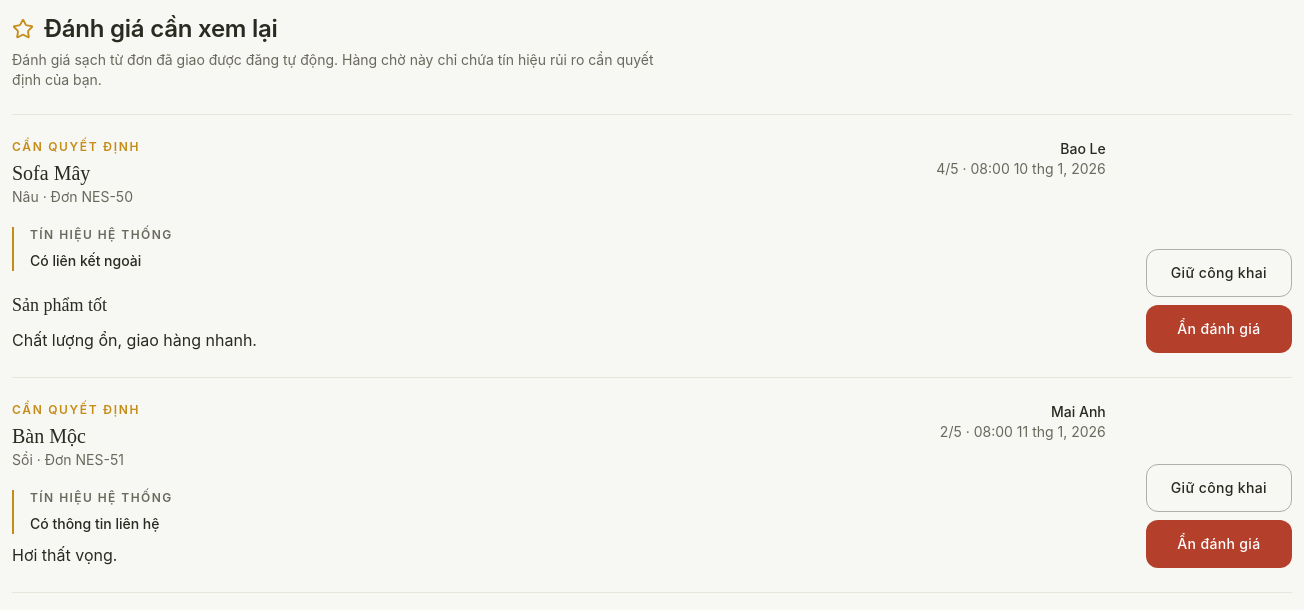
Scenario: AdminReviewsPage › approves a review and removes it from the queue
Expected: the text "Sản phẩm tốt" is shown, left=12, top=295, right=107, bottom=315
Click the button "Giữ công khai" below "Bao Le". click: (1219,273)
box: left=1146, top=249, right=1292, bottom=297
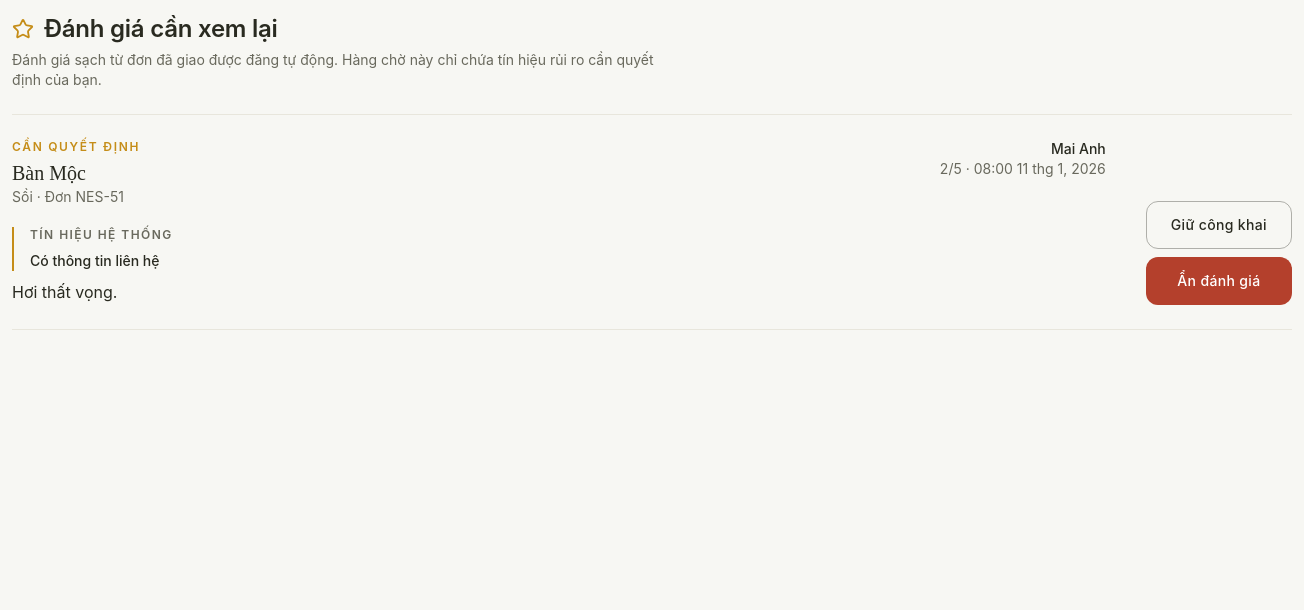
Expected: the text "Mai Anh" is shown, left=1051, top=140, right=1106, bottom=157
Expected: the text "Sản phẩm tốt" is gone
